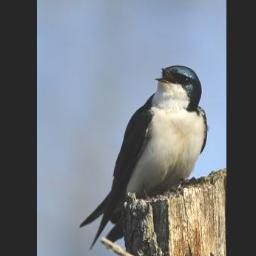Swallow: (78, 64, 207, 251)
